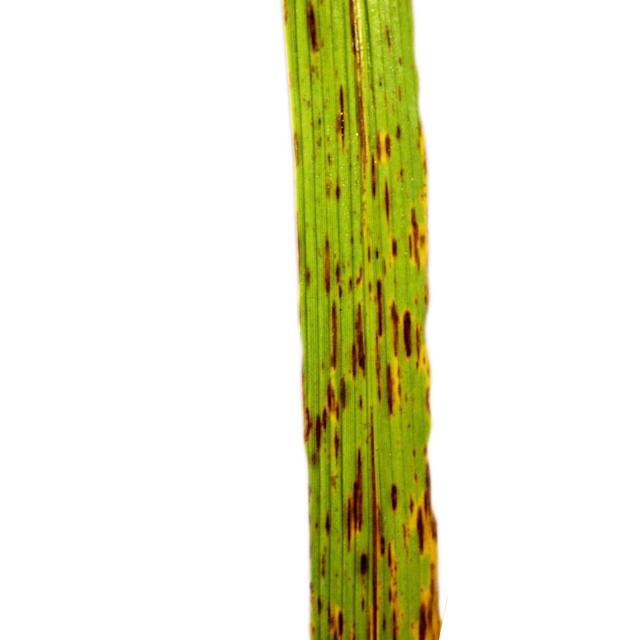Narrow brown: (248, 0, 496, 640)
